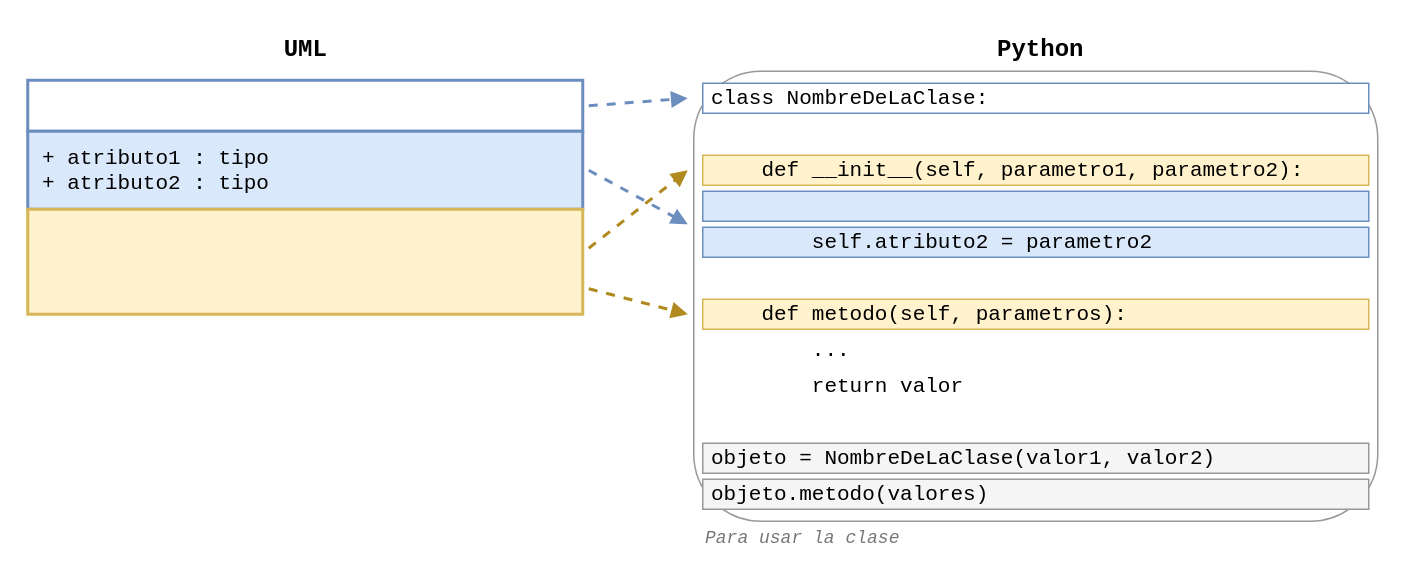
Image size: 1404x575. Some labels were removed from this diagram. The centre of each missing label's shape, as x and y in pixels:
+ NombreDeLaClase(parametro1, parametro2) + metodo(parametros) : tipo: the point at 305,261
NombreDeLaClase: the point at 305,105
self.atributo1 = parametro1: the point at 1035,205
